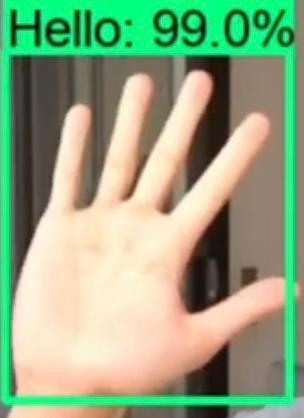Hello: (8, 65, 304, 418)
